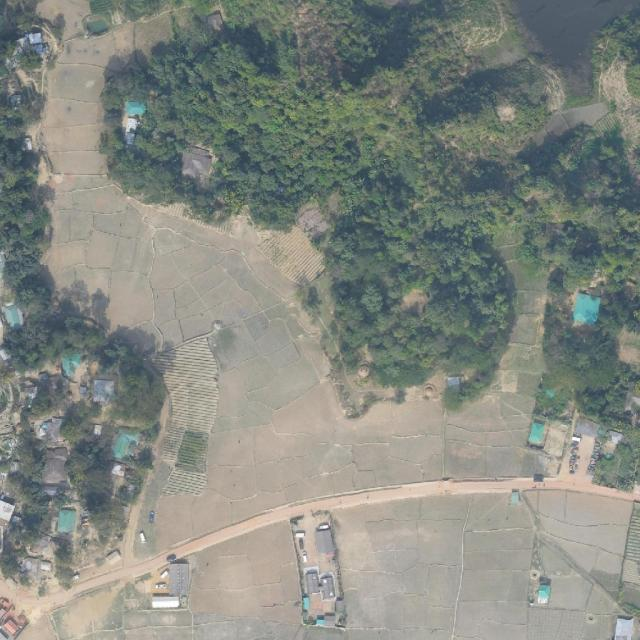agricultural_land: (151, 335, 228, 497), (256, 216, 333, 293)
building: (0, 597, 29, 640), (110, 426, 142, 463), (571, 292, 602, 327), (42, 445, 68, 485), (169, 558, 191, 597), (1, 299, 27, 331), (527, 415, 550, 449), (92, 378, 116, 404), (574, 417, 601, 439), (61, 353, 83, 377), (315, 528, 335, 554), (57, 508, 76, 533), (152, 594, 180, 609), (537, 577, 552, 604), (0, 500, 15, 527), (321, 572, 335, 599), (305, 569, 320, 594), (605, 428, 624, 445), (509, 488, 520, 505)
dryland: (14, 51, 461, 570), (514, 484, 633, 595), (445, 345, 540, 476), (592, 8, 640, 180)
greenland: (104, 0, 563, 386)
unmetalled_road: (171, 468, 447, 558), (77, 553, 166, 596), (545, 478, 640, 502), (450, 477, 534, 495)
